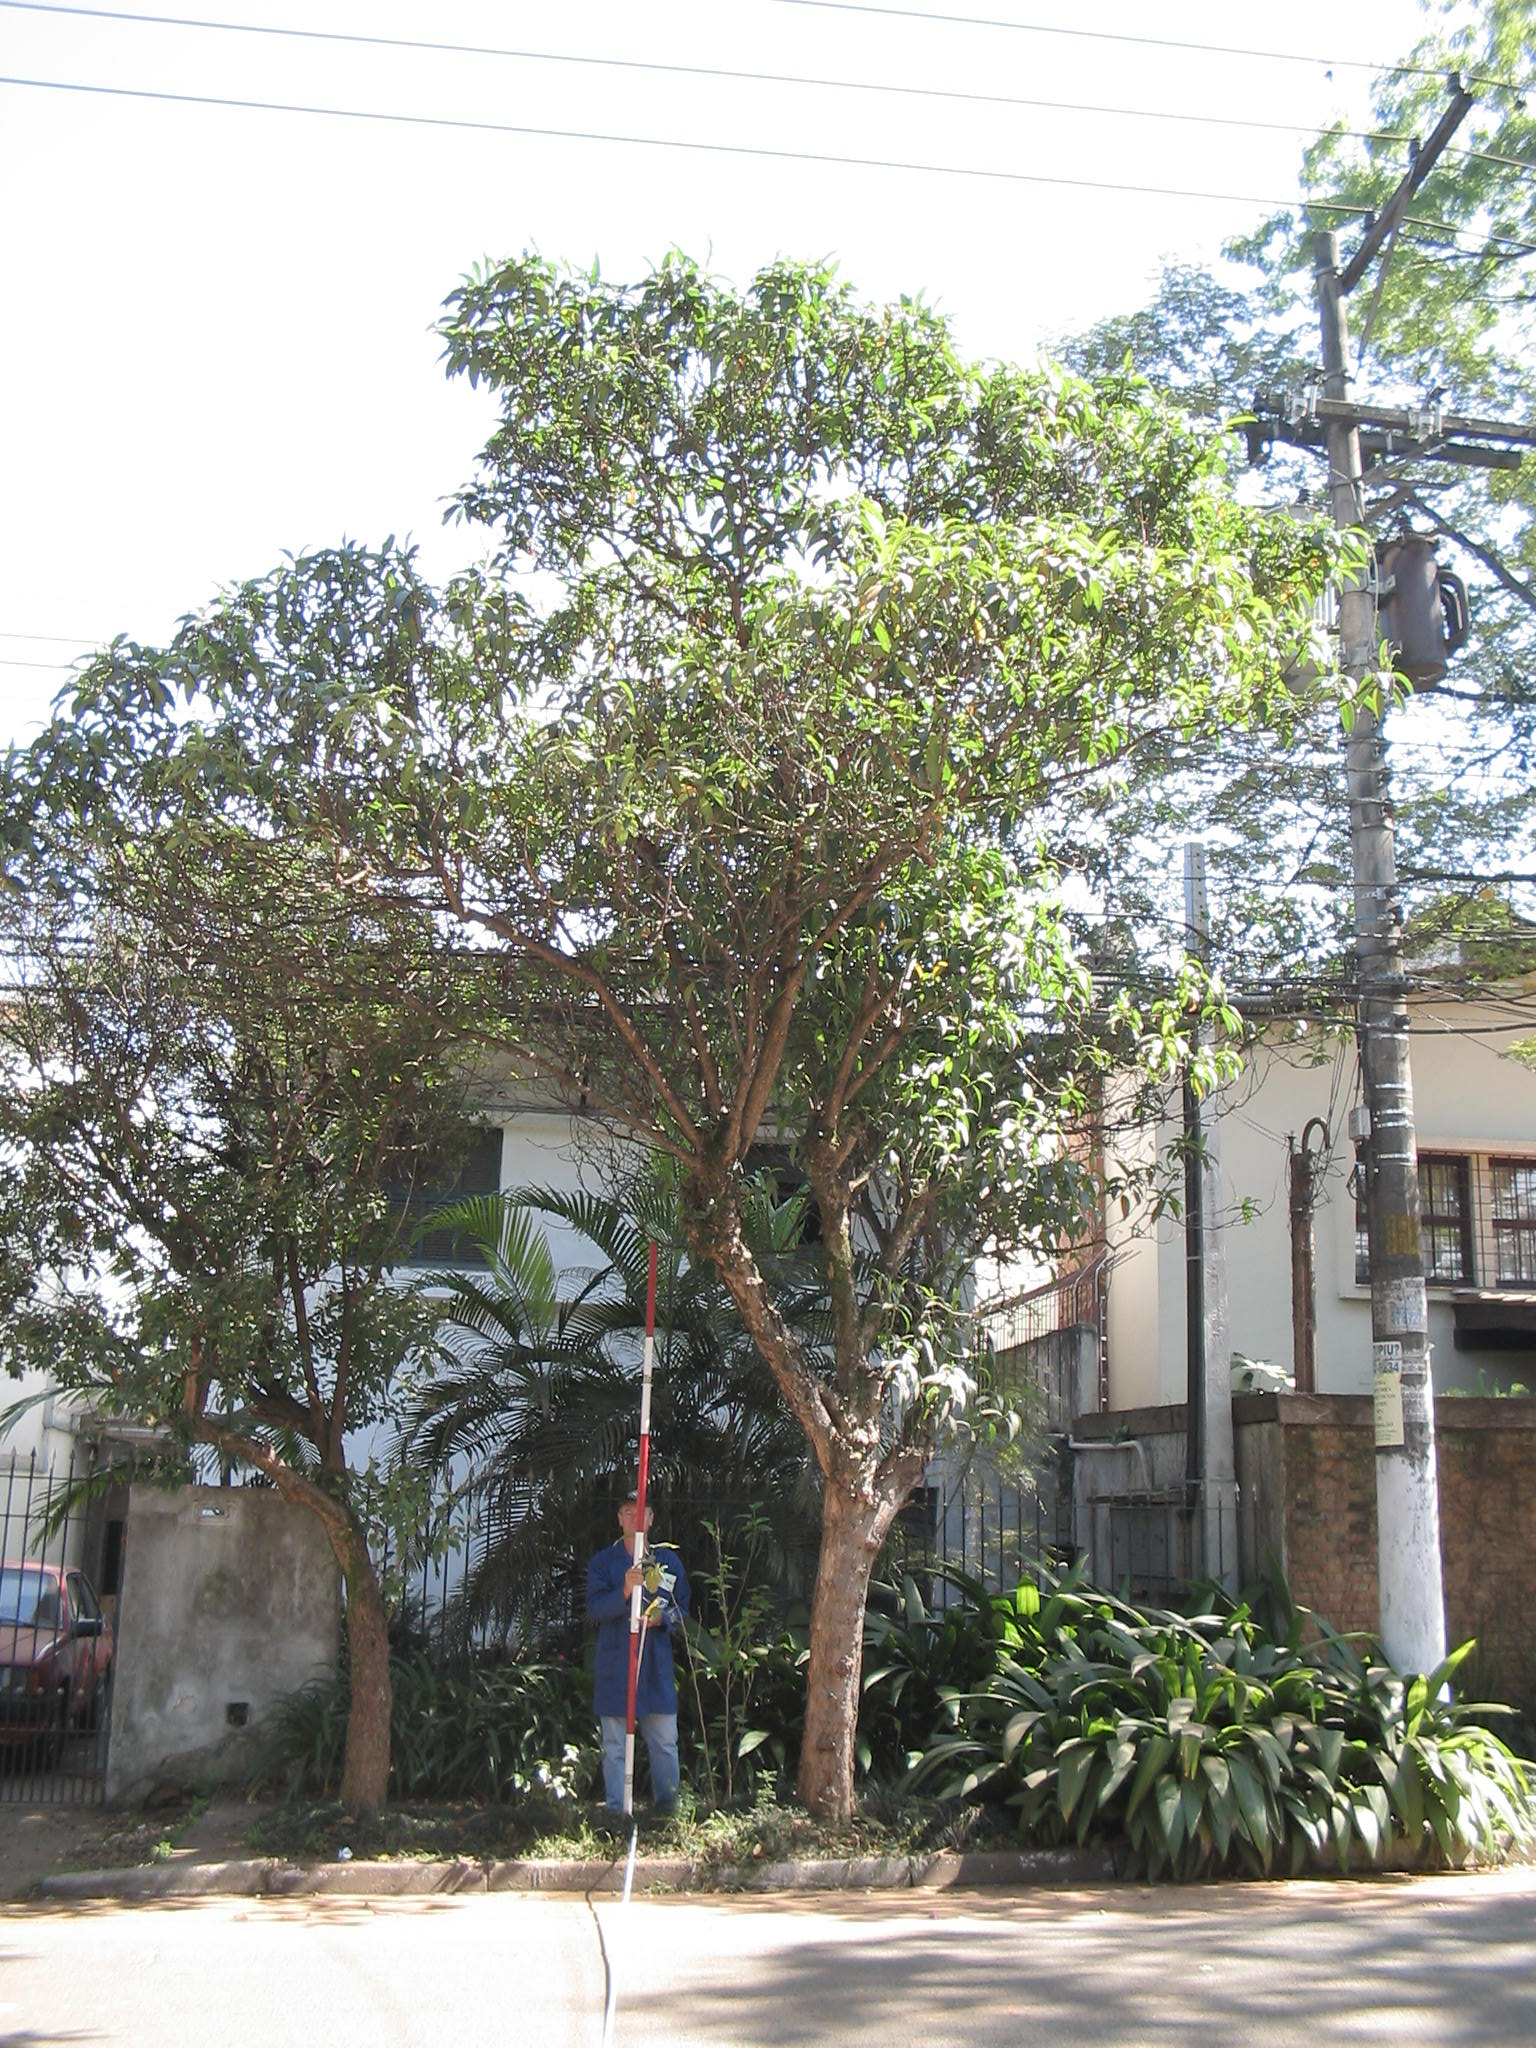crown: (408, 258, 1412, 1467), (10, 547, 511, 1495)
stem: (762, 1453, 949, 1824), (257, 1511, 444, 1821)
stick: (597, 1240, 694, 1837)
tree: (402, 253, 1409, 1824), (3, 540, 523, 1824)
